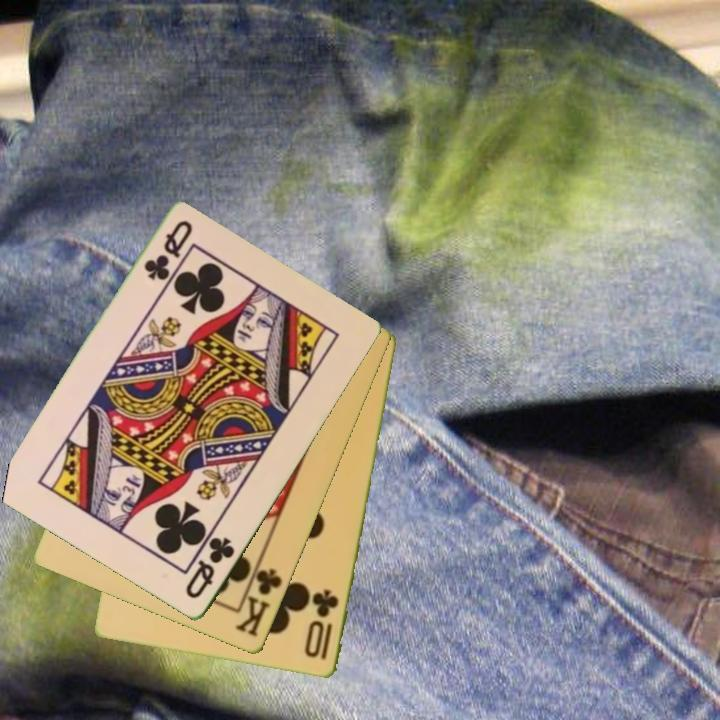10c: (302, 586, 342, 664)
Kc: (232, 556, 285, 640)
Qc: (182, 533, 238, 603), (140, 217, 196, 285)
